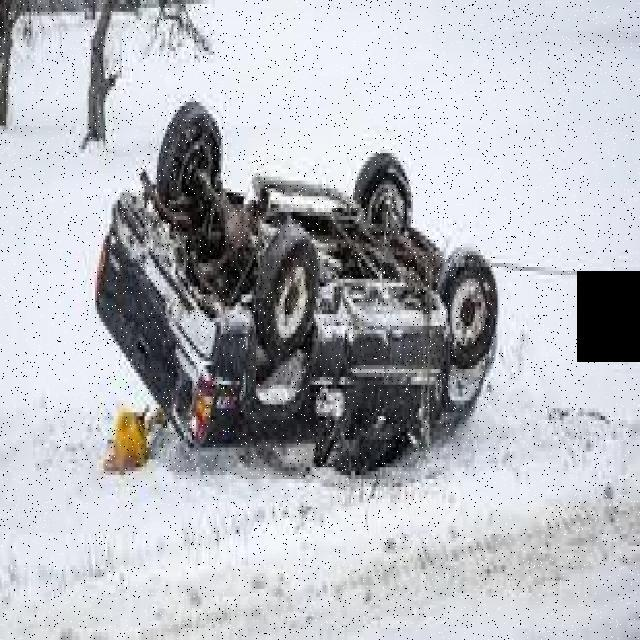severe: (90, 79, 500, 472)
